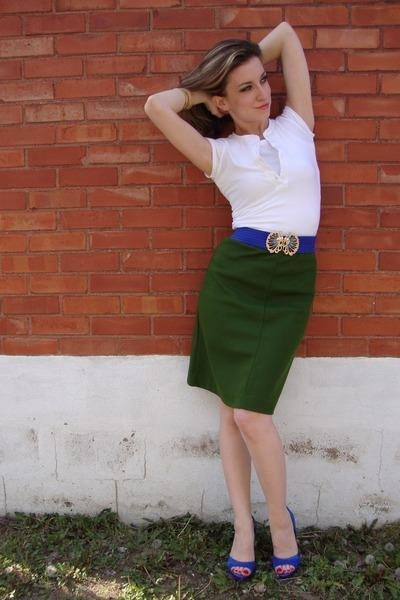shirt: (207, 108, 320, 235)
shoe: (227, 553, 298, 577)
skirt: (187, 236, 316, 414)
